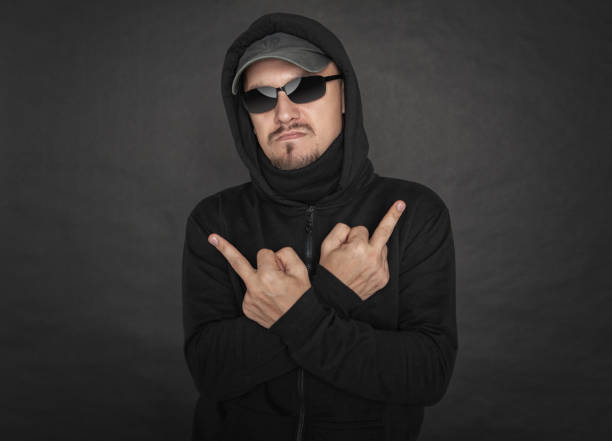insulting_gesture: (207, 230, 311, 334), (321, 197, 406, 299)
